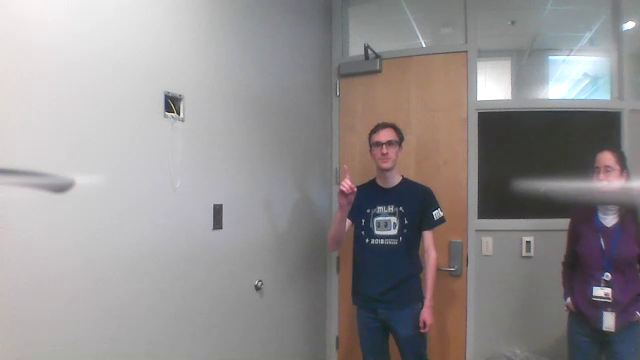up: (333, 161, 359, 210)
